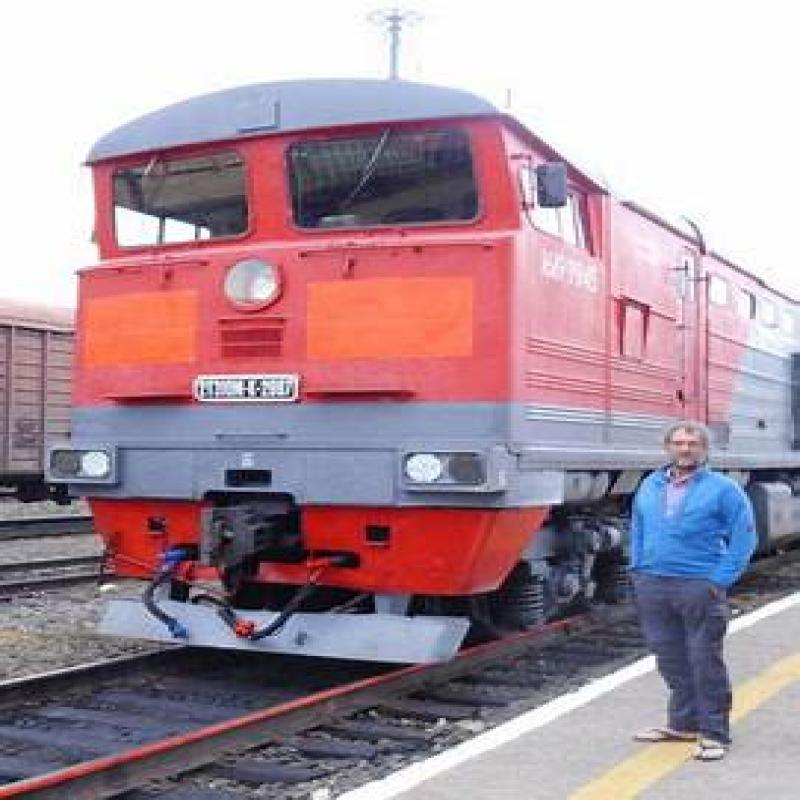train: (28, 63, 595, 653)
